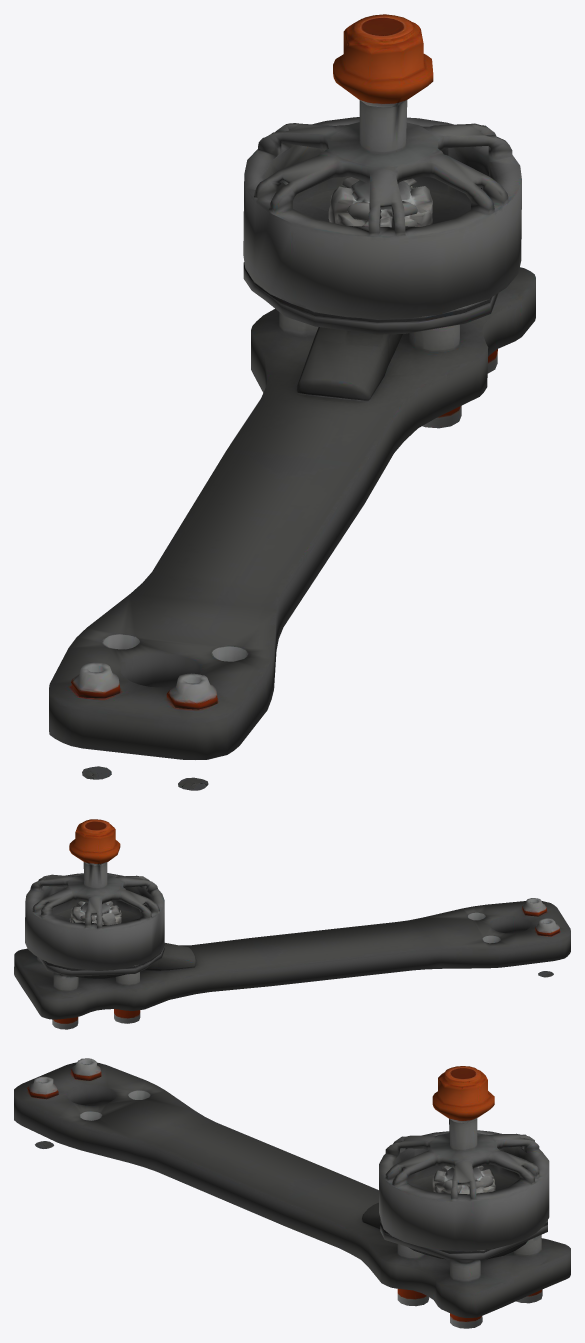
Rendered from motor-arm.glb.
3 renders of one model, top to bottom at view 1: azimuth 30°, elevation 25°; view 2: azimuth 150°, elevation 25°; view 3: azimuth 270°, elevation 25°, orthographic. The views are drawn at different scales.
Parts seen in each view (by area): view 1: Motor arm; view 2: Motor arm; view 3: Motor arm.
Boxes of the visible parts, bbox=[...] form: Motor arm: bbox=[49, 14, 535, 790]; Motor arm: bbox=[14, 819, 570, 1029]; Motor arm: bbox=[14, 1058, 570, 1328].
Size of the model in its own units: 0.998 by 0.4551 by 0.998.
1 material, 1 textured.
